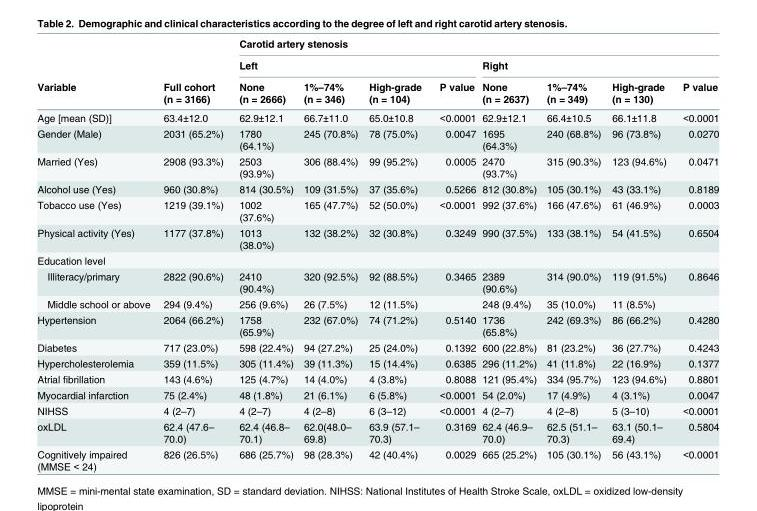table: (36, 37, 718, 471)
table column: (36, 37, 156, 471), (156, 37, 230, 471), (605, 37, 673, 471), (230, 37, 297, 471), (362, 37, 429, 471), (297, 37, 362, 471), (540, 37, 605, 471), (478, 37, 540, 471), (429, 37, 478, 471), (673, 37, 718, 471)
table column header: (36, 37, 718, 107)
table projected row header: (36, 252, 718, 267)
table row: (36, 75, 718, 107), (36, 125, 718, 153), (36, 196, 718, 224), (36, 224, 718, 252), (36, 267, 718, 295), (36, 311, 718, 339), (36, 418, 718, 446), (36, 153, 718, 180), (36, 446, 718, 471), (36, 53, 718, 75), (36, 107, 718, 125), (36, 37, 718, 53), (36, 180, 718, 196), (36, 295, 718, 311), (36, 339, 718, 355), (36, 370, 718, 386), (36, 386, 718, 402), (36, 402, 718, 418), (36, 252, 718, 267), (36, 355, 718, 370)
table spanning cell: (36, 37, 156, 107), (230, 37, 718, 53), (230, 53, 478, 75), (478, 53, 718, 75), (156, 37, 230, 107)
